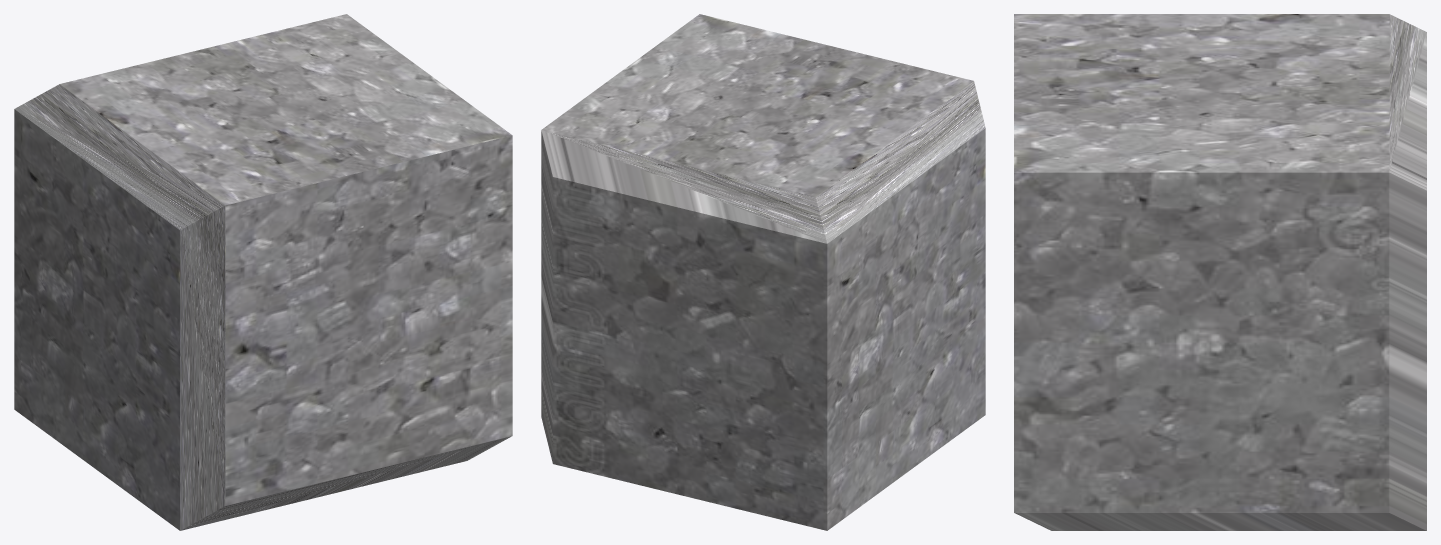
File: Sugar.fbx
3 views of the same model, side by side, from view 1: azimuth 30°, elevation 25°; view 2: azimuth 150°, elevation 25°; view 3: azimuth 270°, elevation 25° (orthographic). The views are drawn at different scales.
Visible parts, largest first — view 1: Sugar; view 2: Sugar; view 3: Sugar.
Boxes of the visible parts, box(x1,y1,x2,y2) form: Sugar: box(14, 14, 512, 530); Sugar: box(541, 14, 985, 530); Sugar: box(1014, 14, 1426, 530).
Bounding box in the file's own units: 330 × 330 × 330.
1 material, 1 textured.
